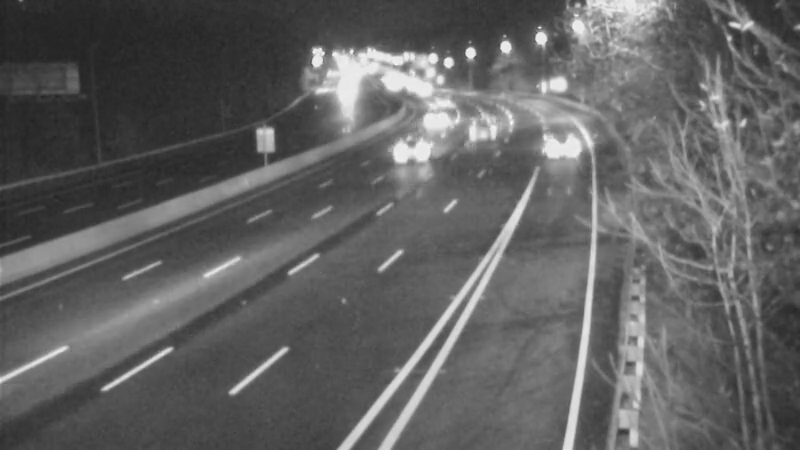vehicle: (400, 64, 450, 114), (408, 80, 458, 130), (412, 87, 462, 137), (456, 100, 506, 150), (533, 125, 583, 175), (382, 125, 432, 175)
